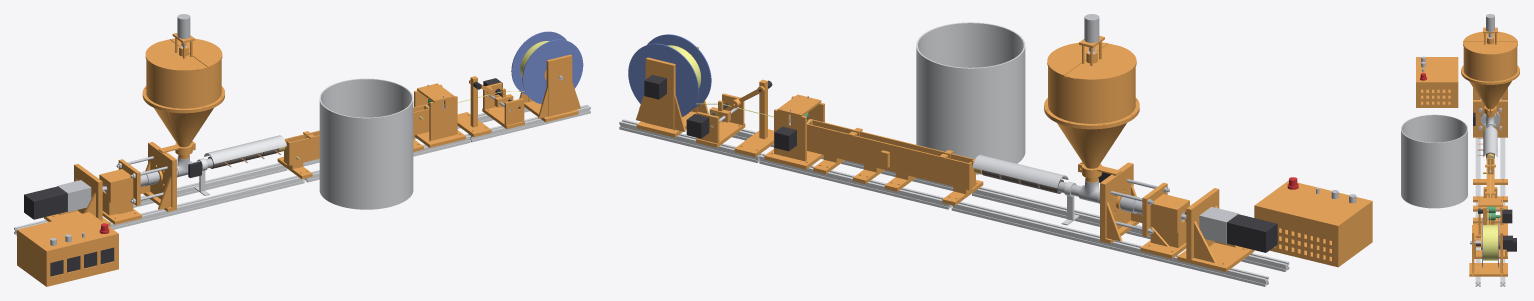
Rendered from filament_maker_assembly.fbx.
3 renders of one model, left to right at view 1: azimuth 30°, elevation 25°; view 2: azimuth 150°, elevation 25°; view 3: azimuth 270°, elevation 25°, orthographic. The views are drawn at different scales.
Parts seen in each view (by area): view 1: H59_10_l_reservoir_bucket_12_v_pump, P06_hopper_drum, H01_2020_rail_pair_module_1, P25_control_box_shell, H37_1_kg_filament_spool_200_mm, P18_spooler_plates_base, P26_control_box_lid_top_panel, P02_bearing_housing_thrust_flange, P14_puller_frame_base_side_plates, P03_head_plate_barrel_anchor, P05_hopper_lower_sleeve_cone, P11_water_bath_segment_a_entry (+14 smaller); view 2: H59_10_l_reservoir_bucket_12_v_pump, H01_2020_rail_pair_module_1, P25_control_box_shell, P06_hopper_drum, P11_water_bath_segment_a_entry, H37_1_kg_filament_spool_200_mm, P12_water_bath_segment_b_exit_wiper, P26_control_box_lid_top_panel, P02_bearing_housing_thrust_flange, P01_motor_wall, P18_spooler_plates_base, H02_2020_rail_pair_module_2 (+16 smaller); view 3: H59_10_l_reservoir_bucket_12_v_pump, P06_hopper_drum, P25_control_box_shell, P26_control_box_lid_top_panel, P18_spooler_plates_base, P05_hopper_lower_sleeve_cone, P03_head_plate_barrel_anchor, P11_water_bath_segment_a_entry, H60_filament_wound_on_the_spool_illustration_35, H01_2020_rail_pair_module_1, P08a_hopper_lid_half_x2, P07_hopper_lid_frame_agitator_mount (+16 smaller).
Boxes of the visible parts, x1=… form: H59_10_l_reservoir_bucket_12_v_pump: x1=319, y1=78, x2=413, y2=209; P06_hopper_drum: x1=142, y1=60, x2=224, y2=111; H01_2020_rail_pair_module_1: x1=14, y1=163, x2=304, y2=235; P25_control_box_shell: x1=17, y1=231, x2=118, y2=286; H37_1_kg_filament_spool_200_mm: x1=511, y1=31, x2=583, y2=104; P18_spooler_plates_base: x1=519, y1=54, x2=580, y2=122; P26_control_box_lid_top_panel: x1=17, y1=212, x2=118, y2=252; P02_bearing_housing_thrust_flange: x1=99, y1=159, x2=141, y2=224; P14_puller_frame_base_side_plates: x1=414, y1=84, x2=465, y2=147; P03_head_plate_barrel_anchor: x1=140, y1=142, x2=176, y2=211; P05_hopper_lower_sleeve_cone: x1=142, y1=96, x2=224, y2=159; P11_water_bath_segment_a_entry: x1=277, y1=130, x2=319, y2=179; H59_10_l_reservoir_bucket_12_v_pump: x1=916, y1=22, x2=1025, y2=174; H01_2020_rail_pair_module_1: x1=951, y1=187, x2=1289, y2=286; P25_control_box_shell: x1=1254, y1=202, x2=1372, y2=267; P06_hopper_drum: x1=1044, y1=67, x2=1139, y2=127; P11_water_bath_segment_a_entry: x1=884, y1=139, x2=983, y2=205; H37_1_kg_filament_spool_200_mm: x1=628, y1=34, x2=711, y2=116; P12_water_bath_segment_b_exit_wiper: x1=807, y1=119, x2=892, y2=184; P26_control_box_lid_top_panel: x1=1254, y1=180, x2=1372, y2=226; P02_bearing_housing_thrust_flange: x1=1140, y1=182, x2=1189, y2=258; P01_motor_wall: x1=1177, y1=188, x2=1254, y2=271; P18_spooler_plates_base: x1=636, y1=47, x2=708, y2=137; H02_2020_rail_pair_module_2: x1=759, y1=153, x2=953, y2=209; H59_10_l_reservoir_bucket_12_v_pump: x1=1401, y1=114, x2=1467, y2=208; P06_hopper_drum: x1=1461, y1=47, x2=1519, y2=83; P25_control_box_shell: x1=1416, y1=83, x2=1458, y2=107; P26_control_box_lid_top_panel: x1=1416, y1=57, x2=1458, y2=82; P18_spooler_plates_base: x1=1469, y1=225, x2=1507, y2=276; P05_hopper_lower_sleeve_cone: x1=1461, y1=72, x2=1519, y2=117; P03_head_plate_barrel_anchor: x1=1473, y1=100, x2=1507, y2=137; P11_water_bath_segment_a_entry: x1=1473, y1=158, x2=1507, y2=202; H60_filament_wound_on_the_spool_illustration_35: x1=1483, y1=225, x2=1497, y2=260; H01_2020_rail_pair_module_1: x1=1475, y1=137, x2=1505, y2=178; P08a_hopper_lid_half_x2: x1=1463, y1=44, x2=1517, y2=54; P07_hopper_lid_frame_agitator_mount: x1=1463, y1=27, x2=1517, y2=55.
Size of the model in its own units: 194 by 58.92 by 47.84.
